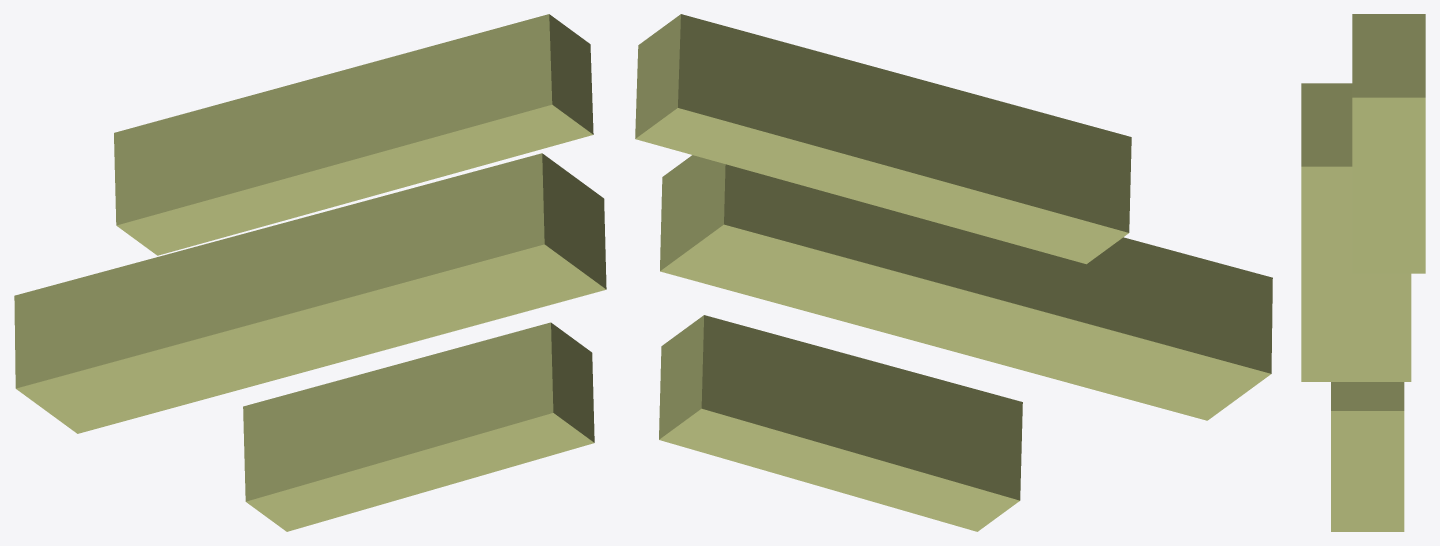
3 views of the same model, side by side, from view 1: azimuth 30°, elevation 25°; view 2: azimuth 150°, elevation 25°; view 3: azimuth 270°, elevation 25° (orthographic). The views are drawn at different scales.
Parts seen in each view (by area): view 1: 0_2_1_0_0_3; view 2: 0_2_1_0_0_3; view 3: 0_2_1_0_0_3.
Boxes of the visible parts, <box> form: 0_2_1_0_0_3: <box>14,14,606,531</box>; 0_2_1_0_0_3: <box>635,14,1272,531</box>; 0_2_1_0_0_3: <box>1301,14,1425,531</box>.
Size of the model in its own units: 45.82 by 32.24 by 10.18.
